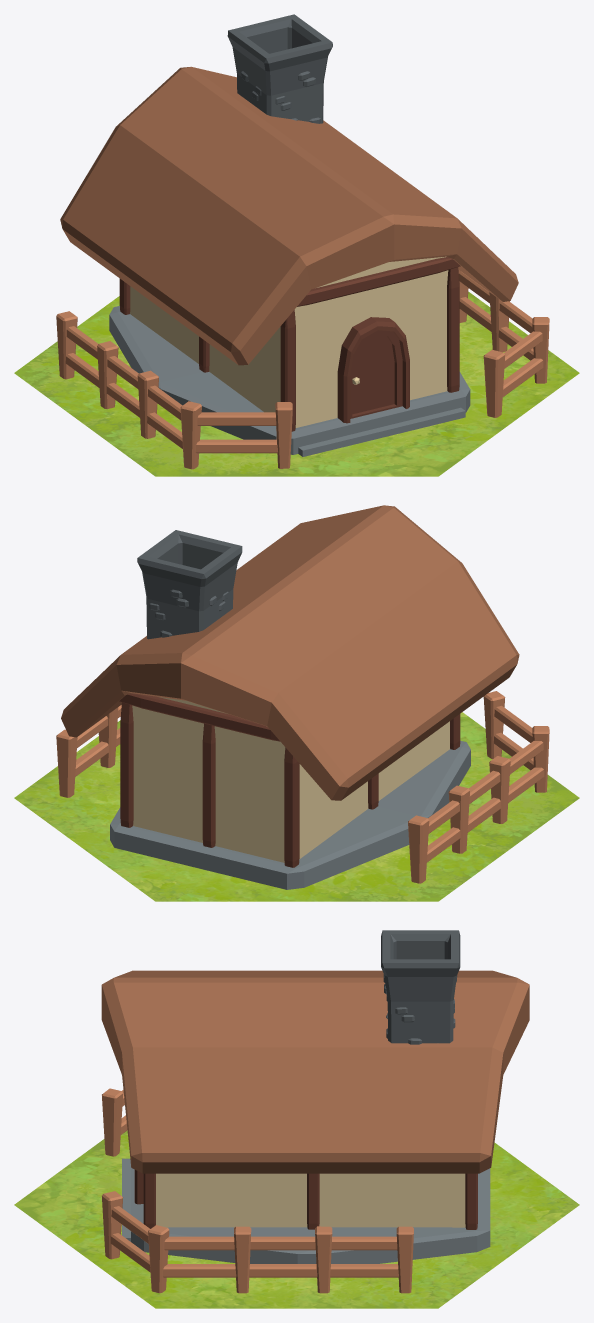
File: Hex_flat_House.fbx
The picture shows the model from 3 angles, top to bottom: view 1: azimuth 30°, elevation 25°; view 2: azimuth 150°, elevation 25°; view 3: azimuth 270°, elevation 25°; orthographic projection.
Visible parts, largest first — view 1: Hex_flat_House; view 2: Hex_flat_House; view 3: Hex_flat_House.
Part boxes in pixels (<box>): Hex_flat_House: <box>14,14,579,476</box>; Hex_flat_House: <box>14,505,579,901</box>; Hex_flat_House: <box>14,930,579,1308</box>.
Bounding box in the file's own units: 0.866 × 0.5626 × 1.
